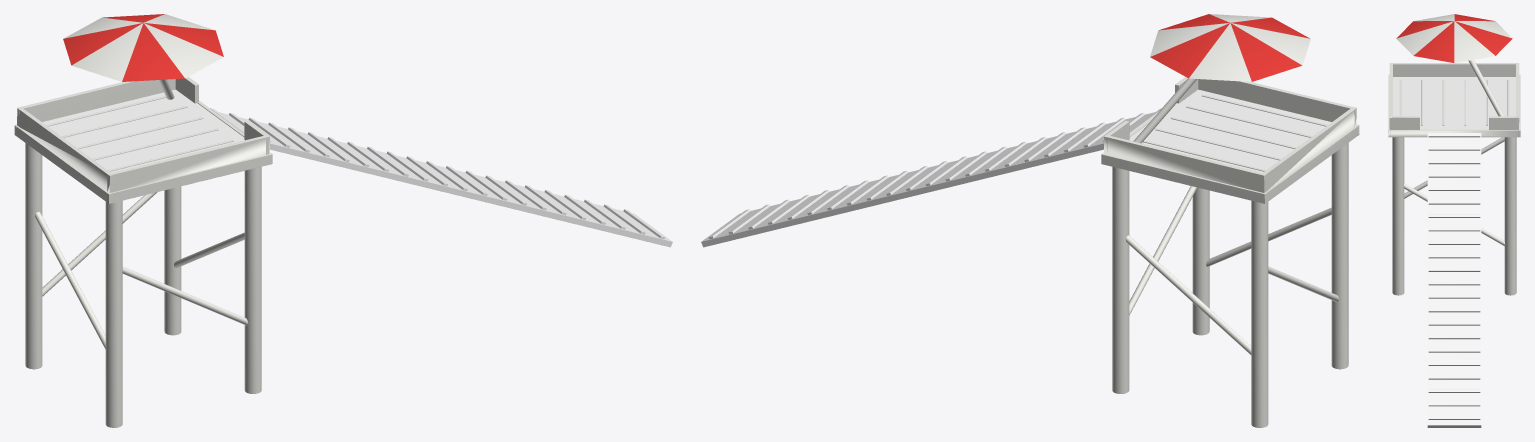
Rendered from lookout_15_canopy.glb.
3 renders of one model, left to right at view 1: azimuth 30°, elevation 25°; view 2: azimuth 150°, elevation 25°; view 3: azimuth 270°, elevation 25°, orthographic. The views are drawn at different scales.
Parts seen in each view (by area): view 1: lookout_15_canopy.001; view 2: lookout_15_canopy.001; view 3: lookout_15_canopy.001.
Part boxes in pixels (x1,y1,x2,y2): lookout_15_canopy.001: (14,14,672,427); lookout_15_canopy.001: (701,14,1359,427); lookout_15_canopy.001: (1388,14,1520,427).
Bounding box in the file's own units: 44.3 × 25.4 × 12.28.
